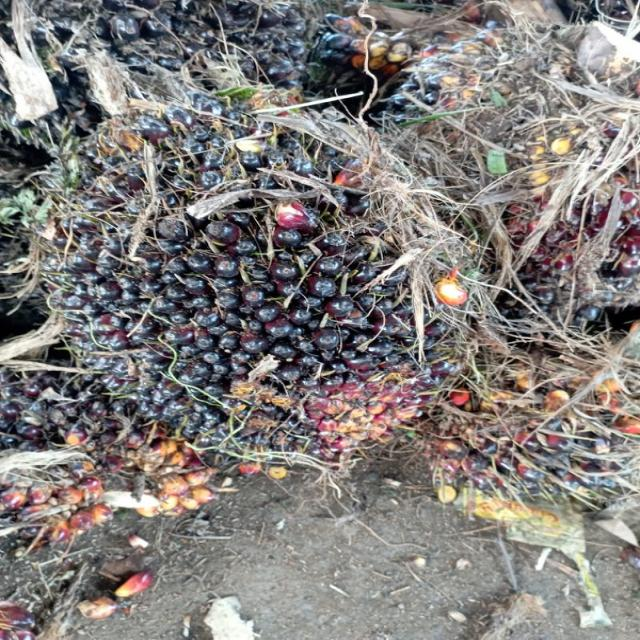fraksi 00: (0, 69, 467, 482)
